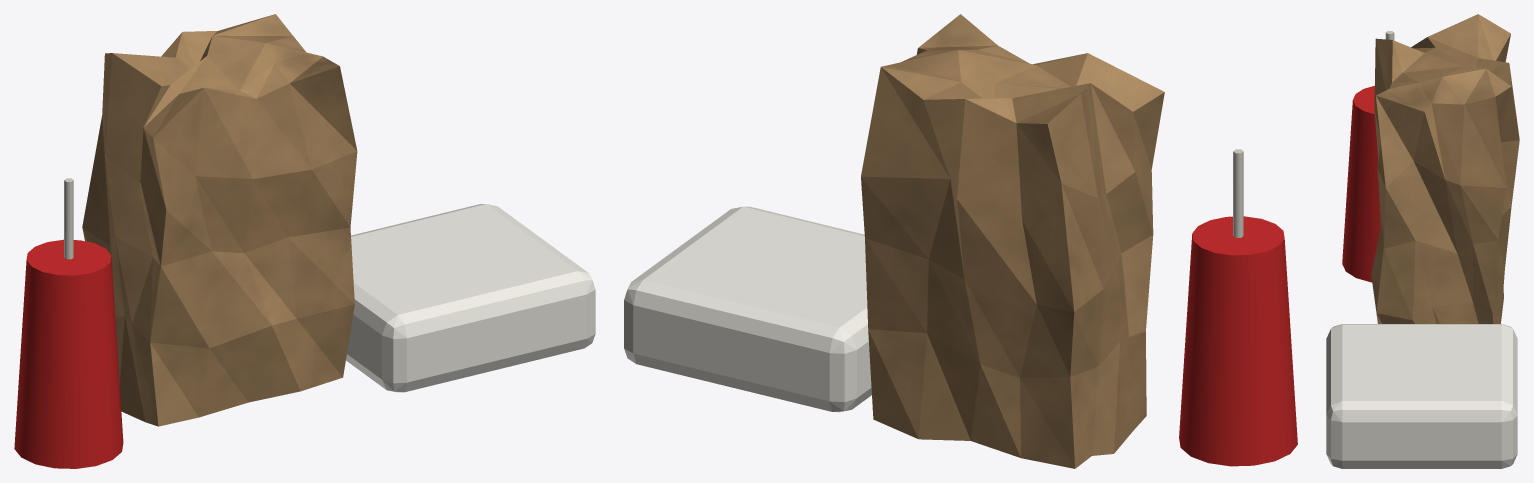
The model's file is takeout.glb.
3 renders of one model, left to right at view 1: azimuth 30°, elevation 25°; view 2: azimuth 150°, elevation 25°; view 3: azimuth 270°, elevation 25°, orthographic. The views are drawn at different scales.
Parts seen in each view (by area): view 1: takeout; view 2: takeout; view 3: takeout.
Part boxes in pixels (x1,y1,x2,y2): takeout: (14, 14, 595, 468); takeout: (624, 14, 1297, 468); takeout: (1326, 14, 1519, 468).
Size of the model in its own units: 0.515 by 0.3076 by 0.1819.
4 materials, 1 textured.
